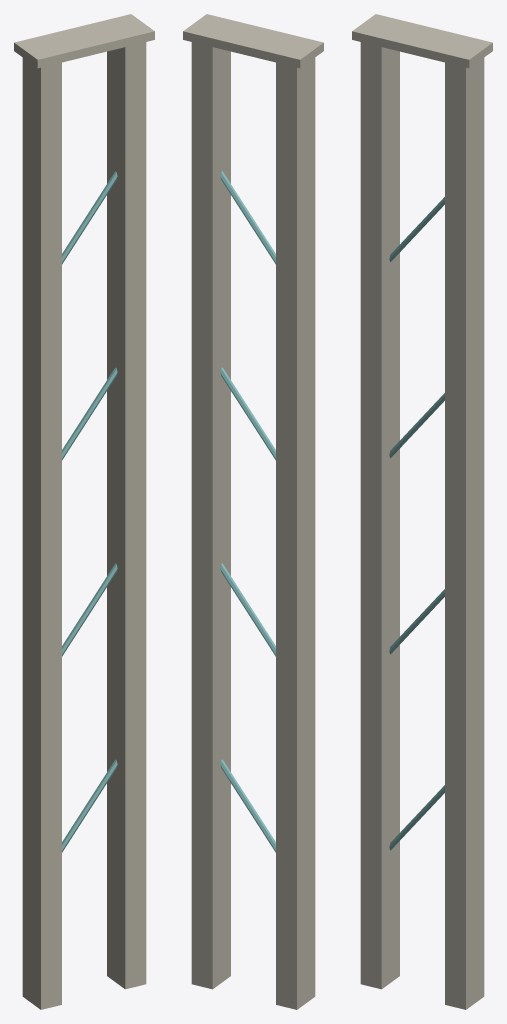
3 views of the same model, side by side, from view 1: azimuth 30°, elevation 25°; view 2: azimuth 150°, elevation 25°; view 3: azimuth 330°, elevation 25° (orthographic).
Size of the model in its own units: 10 by 77.8 by 3.5.
